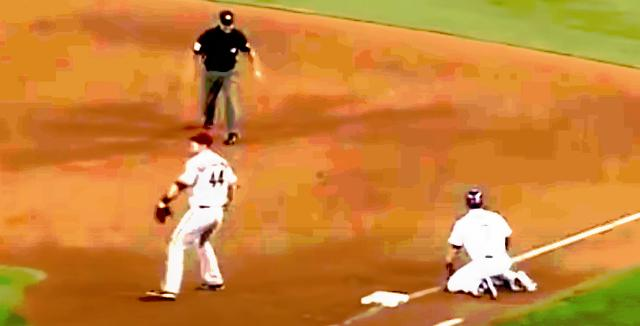jatuh: (440, 185, 544, 303)
